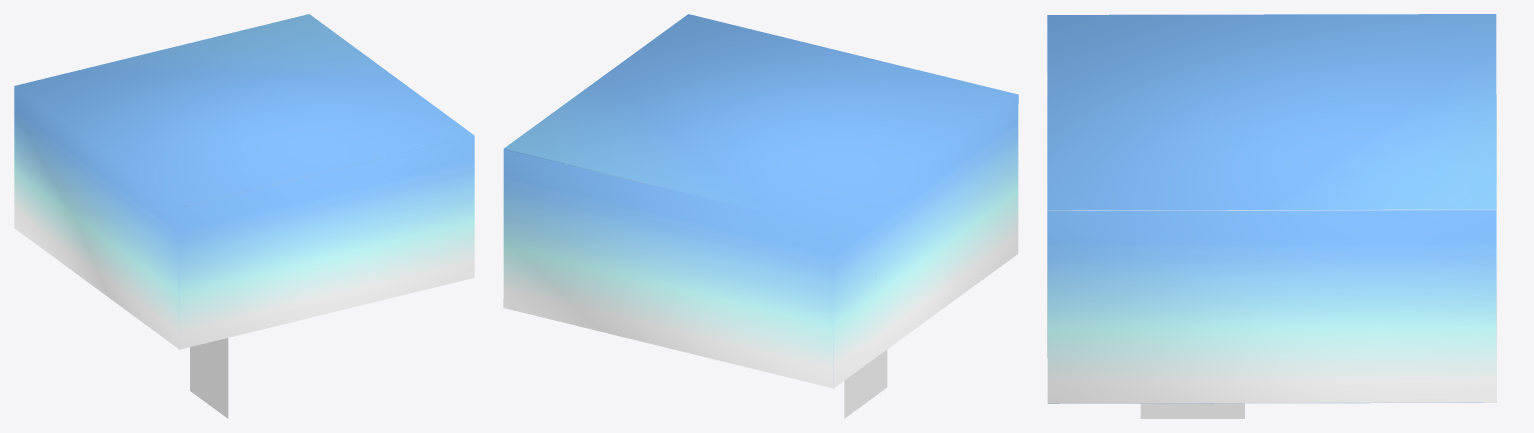
Rendered from sekolah.glb.
The picture shows the model from 3 angles, left to right: view 1: azimuth 30°, elevation 25°; view 2: azimuth 150°, elevation 25°; view 3: azimuth 270°, elevation 25°; orthographic projection. The views are drawn at different scales.
Parts seen in each view (by area): view 1: Object_10, Object_8; view 2: Object_10, Object_8; view 3: Object_10, Object_8.
Part boxes in pixels (x1=…): Object_10: x1=14, y1=14, x2=474, y2=349; Object_8: x1=190, y1=338, x2=228, y2=418; Object_10: x1=503, y1=14, x2=1018, y2=388; Object_8: x1=844, y1=349, x2=887, y2=418; Object_10: x1=1047, y1=14, x2=1496, y2=403; Object_8: x1=1140, y1=403, x2=1244, y2=418.
Bounding box in the file's own units: 80.86 × 64.11 × 78.45.
Materials: 14 (11 with a texture image).
